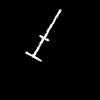double_crochet: (26, 10, 60, 60)
